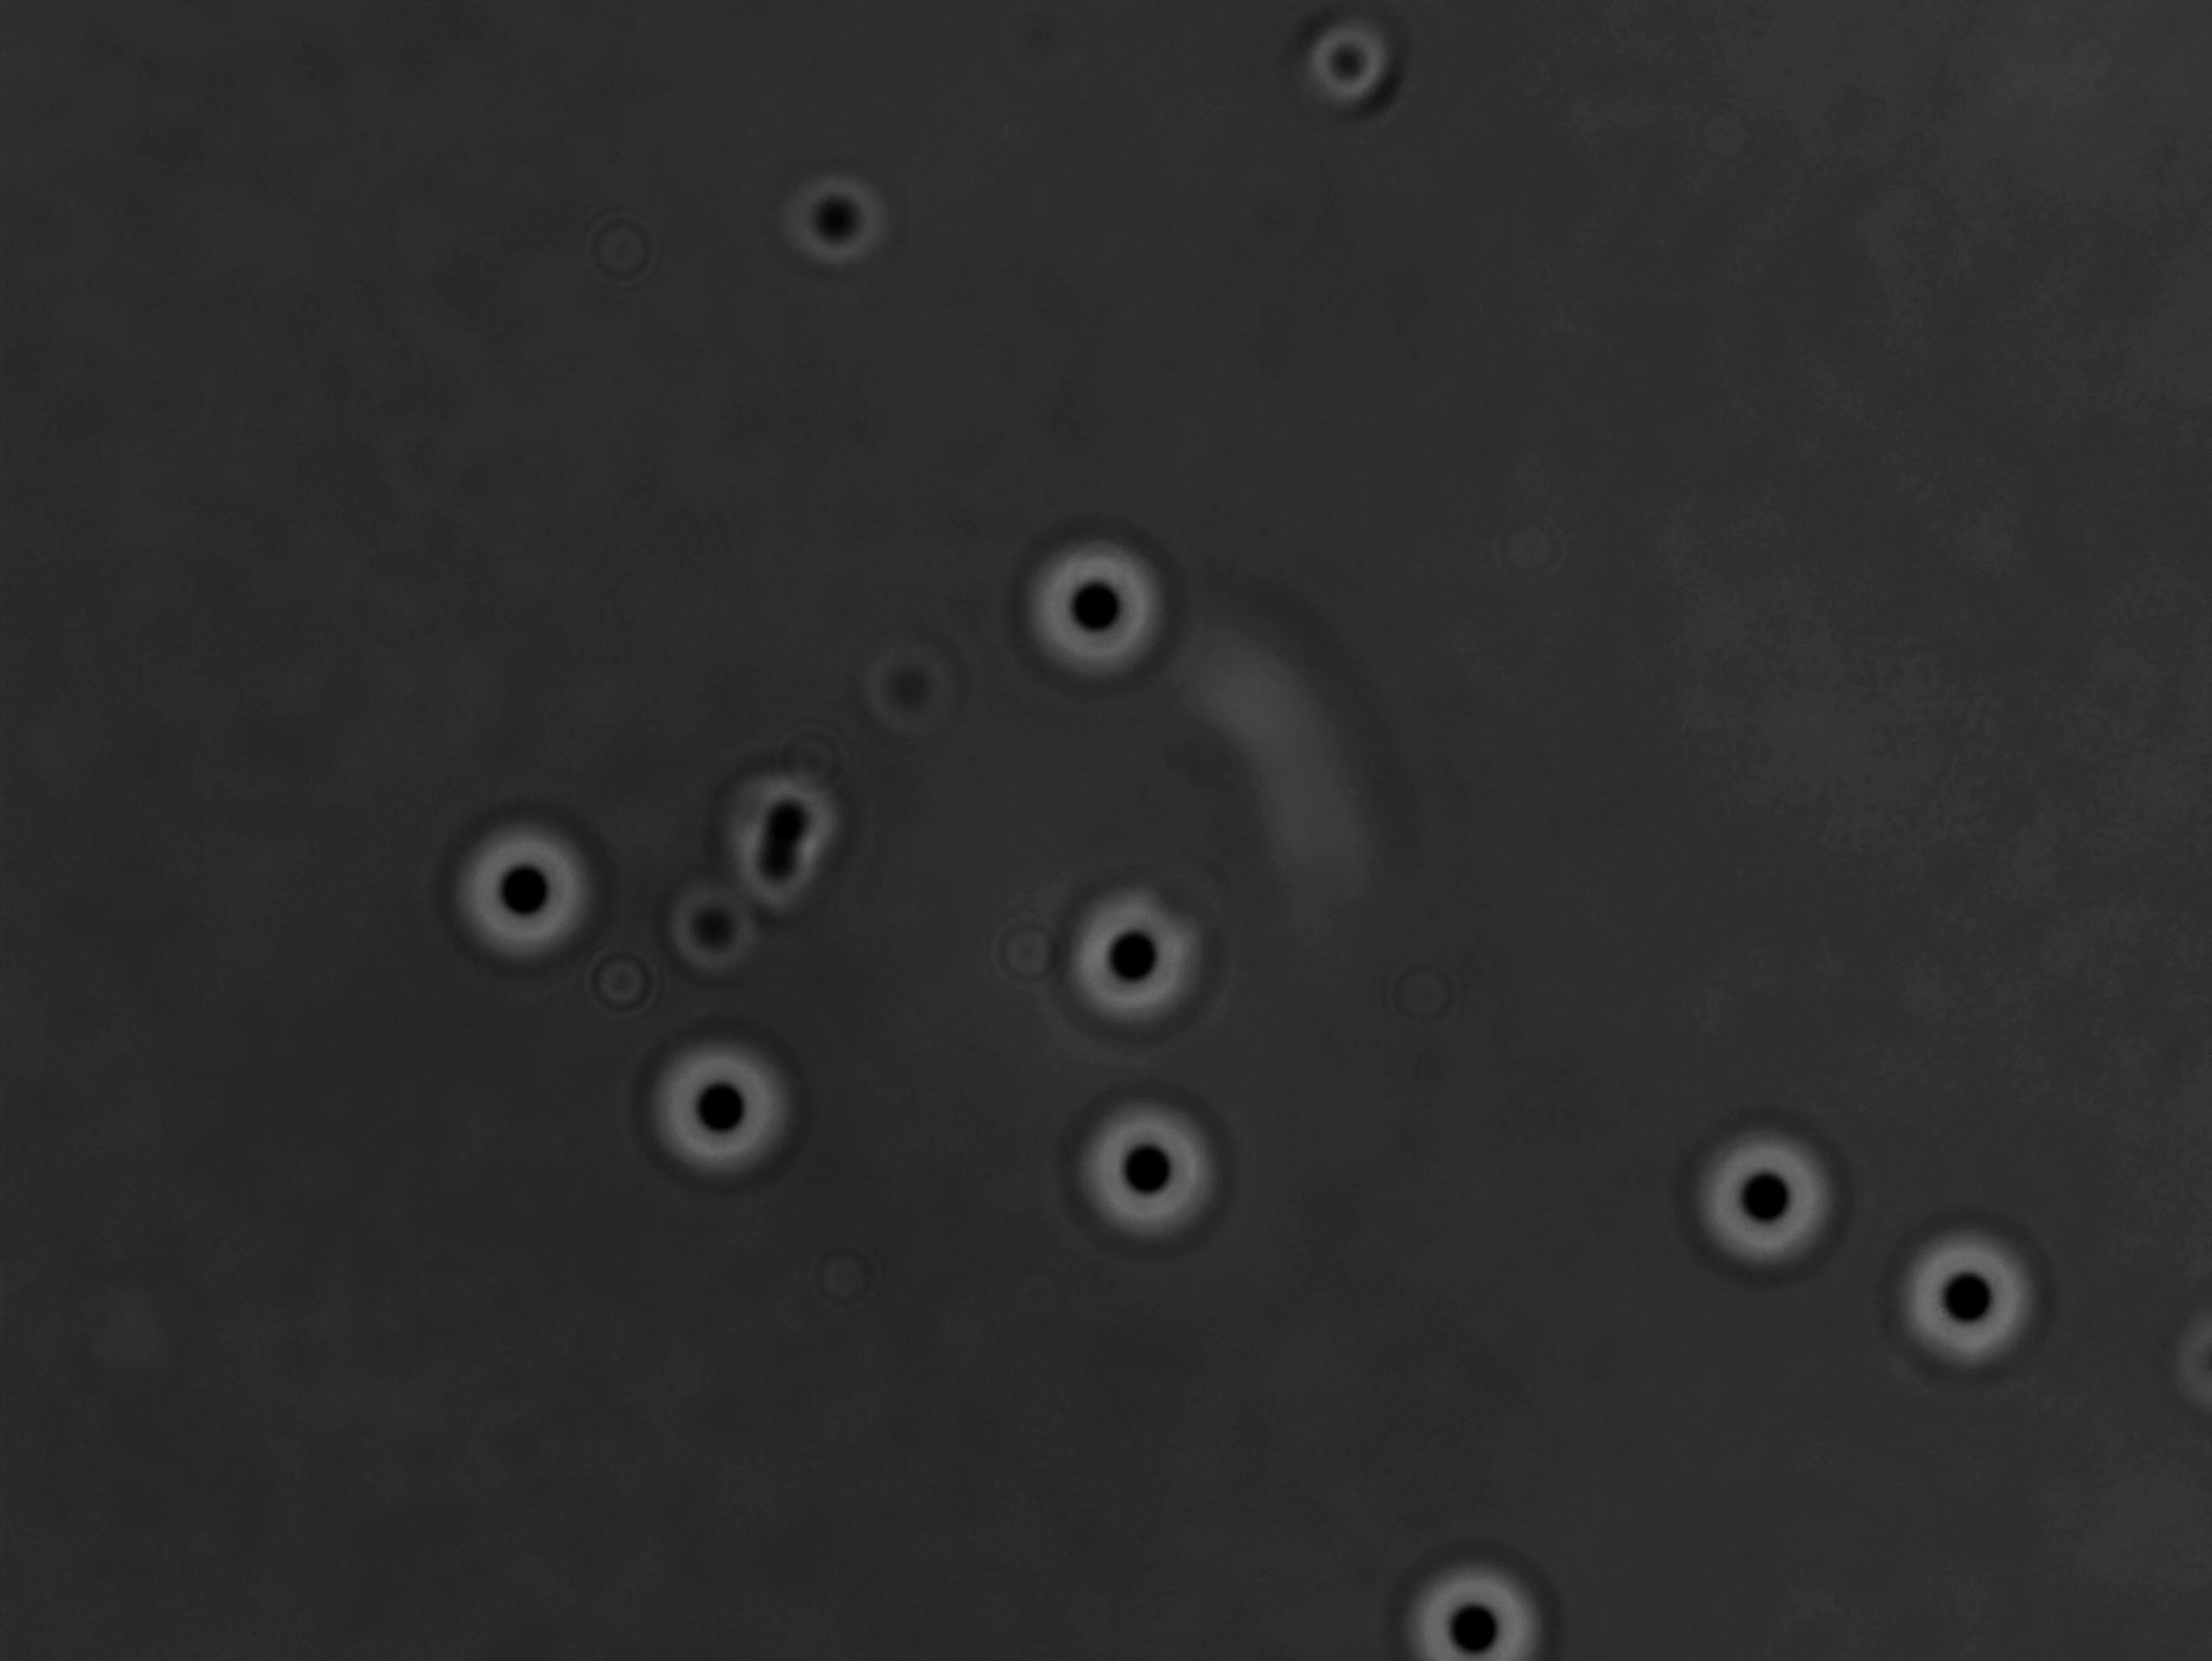depth:-40: (1669, 1090, 1851, 1275), (1882, 1213, 2064, 1380), (1057, 1096, 1233, 1254), (637, 1021, 797, 1192), (440, 808, 600, 974), (1047, 883, 1212, 1043), (1015, 534, 1169, 686), (1392, 1537, 1568, 1661)
